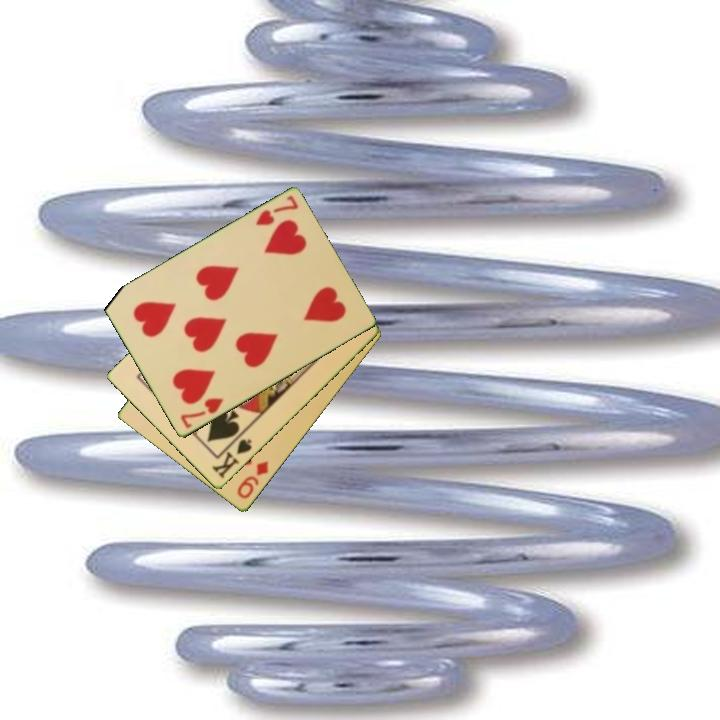7h: (177, 395, 227, 432), (252, 192, 301, 229)
9d: (233, 458, 271, 502)
Ks: (208, 436, 255, 482)
